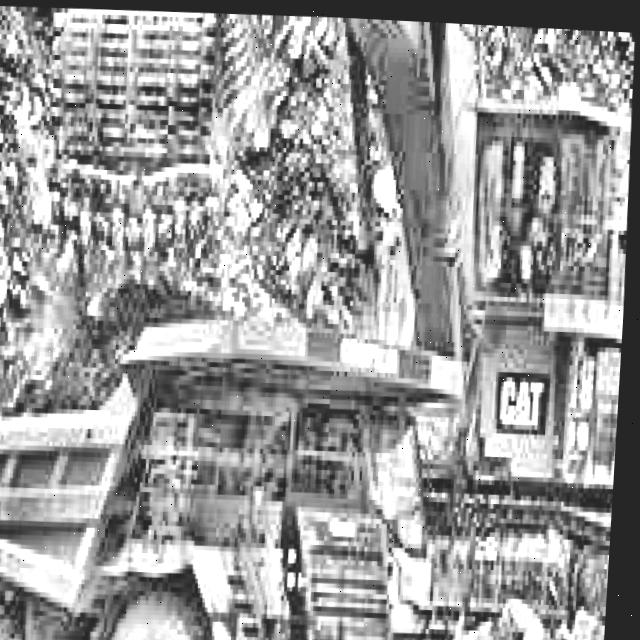dump_truck: (0, 284, 481, 640)
